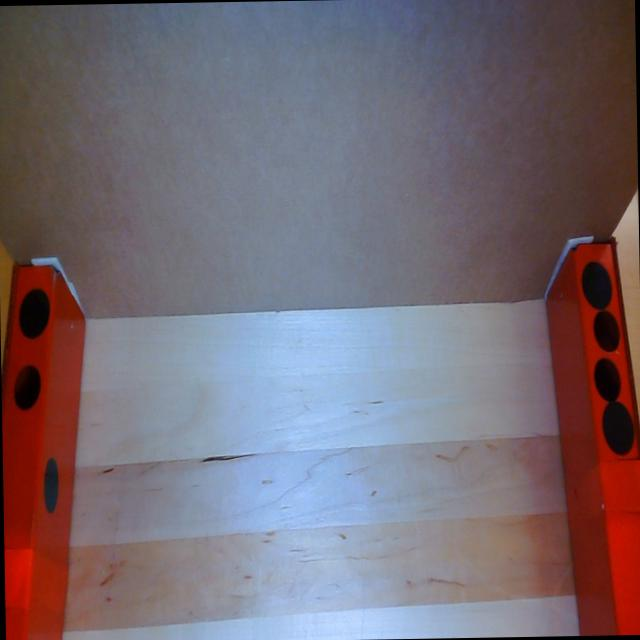Hole: (13, 364, 42, 411), (593, 357, 621, 400), (592, 309, 620, 351)
Sticker: (18, 285, 50, 341), (602, 400, 634, 456), (580, 259, 612, 309), (42, 454, 59, 514)
